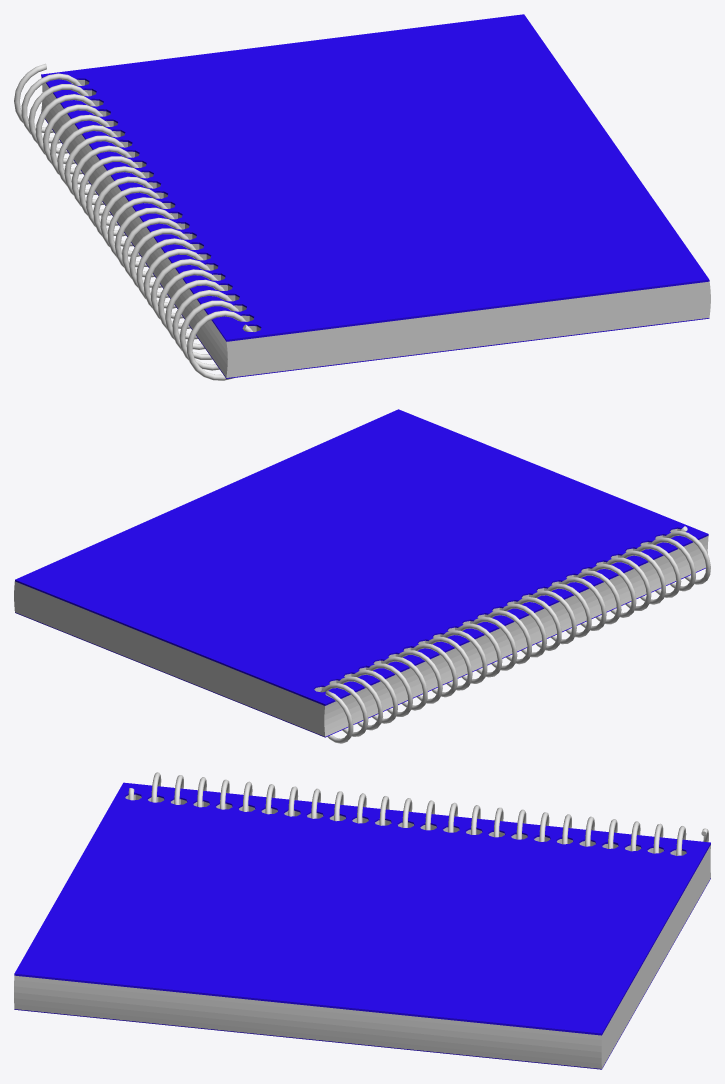
File: Libreta espiral.glb
The picture shows the model from 3 angles, top to bottom: view 1: azimuth 30°, elevation 25°; view 2: azimuth 150°, elevation 25°; view 3: azimuth 270°, elevation 25°; orthographic projection. The views are drawn at different scales.
Visible parts, largest first — view 1: Escritorio_Libreta espiral; view 2: Escritorio_Libreta espiral; view 3: Escritorio_Libreta espiral.
Boxes of the visible parts, x1,y1,x2,y2 form: Escritorio_Libreta espiral: [14, 14, 710, 380]; Escritorio_Libreta espiral: [14, 409, 710, 743]; Escritorio_Libreta espiral: [14, 772, 710, 1069].
Bounding box in the file's own units: 0.2951 × 0.0312 × 0.3332.
